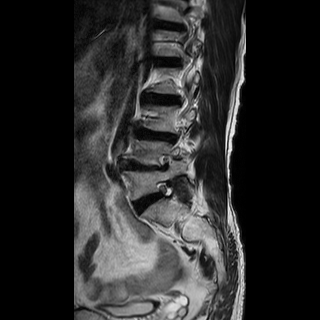RFS0: (149, 174, 180, 207)
